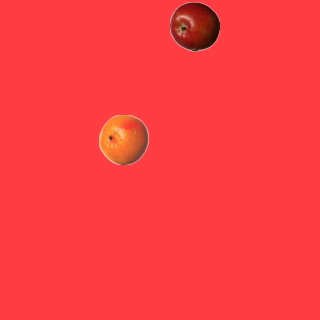Apple Braeburn: (169, 1, 219, 51)
Grapefruit Pink: (98, 114, 148, 164)
